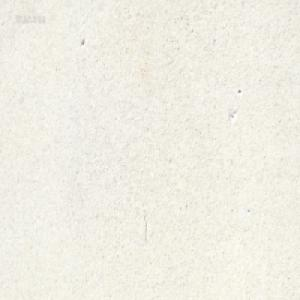Wrench: (151, 0, 157, 4)
